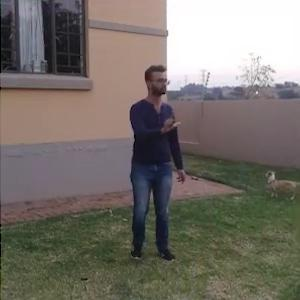land_hand: (157, 107, 183, 136)
